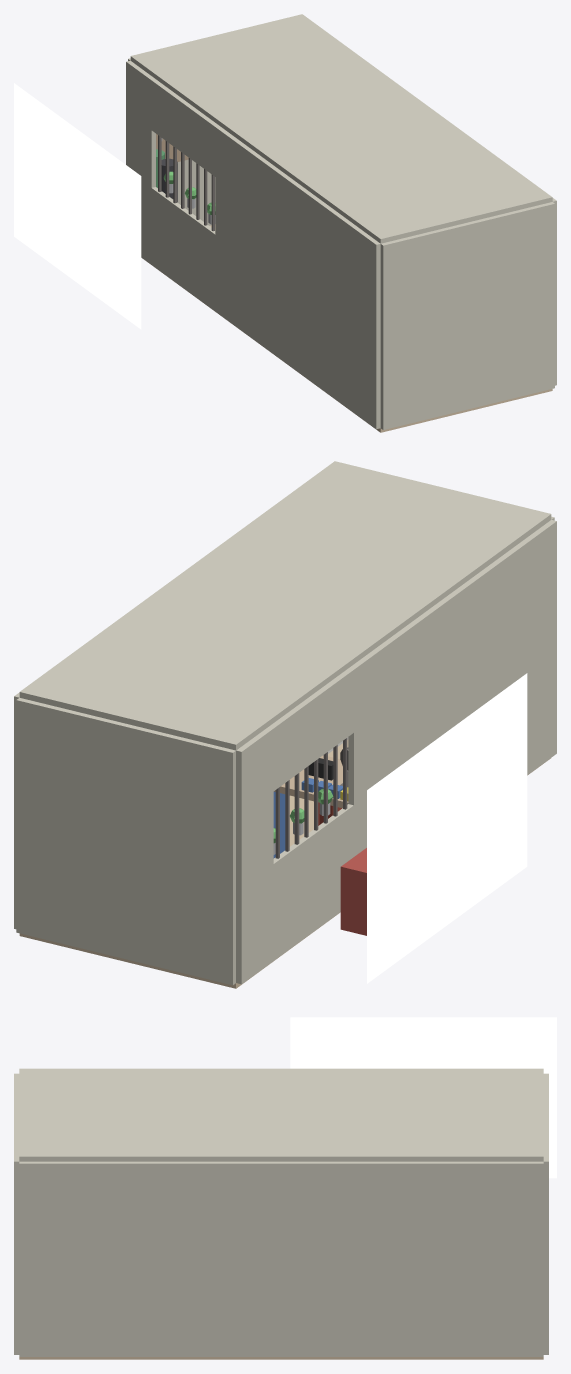
Rendered from yonke_dentro.glb.
3 views of the same model, one above another, from view 1: azimuth 30°, elevation 25°; view 2: azimuth 150°, elevation 25°; view 3: azimuth 270°, elevation 25° (orthographic). The views are drawn at different scales.
Parts seen in each view (by area): view 1: D_techo-convcol, D_frente-convcol, D_oeste_b-convcol, D_luz, D_oeste_c, D_oeste_a-convcol, D_oeste_d, D_barrotes, D_fondo-convcol, D_piso-convcol; view 2: D_techo-convcol, D_fondo-convcol, D_oeste_b-convcol, D_luz, D_oeste_a-convcol, D_oeste_c, D_oeste_d, D_barrotes, D_carro_fuera, D_piso-convcol, D_este-convcol, D_tablon-convcol; view 3: D_este-convcol, D_techo-convcol, D_luz, D_fondo-convcol, D_frente-convcol, D_piso-convcol.
Part boxes in pixels (left/top/right/bottom): D_techo-convcol: left=130, top=14, right=552, bottom=243; D_frente-convcol: left=380, top=202, right=554, bottom=429; D_oeste_b-convcol: left=215, top=126, right=380, bottom=429; D_luz: left=14, top=83, right=141, bottom=329; D_oeste_c: left=151, top=187, right=215, bottom=310; D_oeste_a-convcol: left=126, top=60, right=155, bottom=264; D_oeste_d: left=151, top=79, right=219, bottom=176; D_barrotes: left=158, top=135, right=214, bottom=231; D_fondo-convcol: left=128, top=58, right=215, bottom=225; D_piso-convcol: left=141, top=224, right=552, bottom=432; D_techo-convcol: left=19, top=461, right=551, bottom=750; D_fondo-convcol: left=16, top=697, right=235, bottom=985; D_oeste_b-convcol: left=348, top=520, right=556, bottom=856; D_luz: left=367, top=673, right=527, bottom=983; D_oeste_a-convcol: left=236, top=727, right=273, bottom=984; D_oeste_c: left=273, top=804, right=353, bottom=960; D_oeste_d: left=268, top=668, right=353, bottom=790; D_barrotes: left=275, top=738, right=347, bottom=858; D_carro_fuera: left=340, top=848, right=366, bottom=935; D_piso-convcol: left=19, top=739, right=550, bottom=988; D_este-convcol: left=14, top=692, right=19, bottom=929; D_tablon-convcol: left=274, top=755, right=348, bottom=808; D_este-convcol: left=19, top=1161, right=543, bottom=1356; D_techo-convcol: left=19, top=1068, right=543, bottom=1161; D_luz: left=290, top=1017, right=556, bottom=1178; D_fondo-convcol: left=543, top=1073, right=548, bottom=1354; D_frente-convcol: left=14, top=1073, right=19, bottom=1354; D_piso-convcol: left=19, top=1357, right=543, bottom=1359.
Size of the model in its own units: 3.9 by 2.52 by 6.11.
